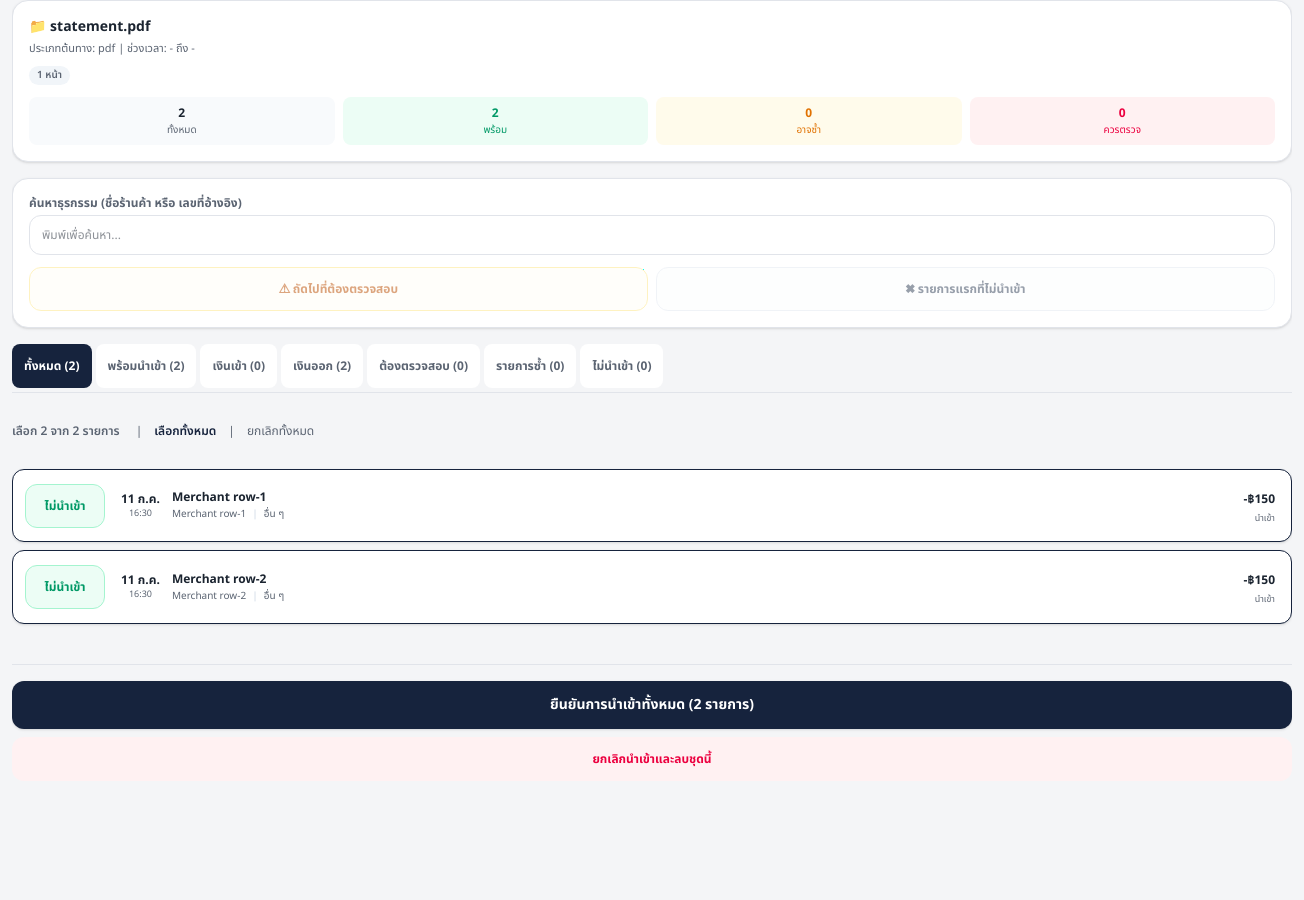
Scenario: History Import Review Selection Model › toggles row exclusion and updates summary count immediately
The image size is (1304, 900).
Expected: the text "เลือก 2 จาก 2 รายการ" is shown, x1=12 y1=423 x2=120 y2=439
Click the 1st button "ไม่นำเข้า" at (65, 506), box x1=25 y1=484 x2=105 y2=528
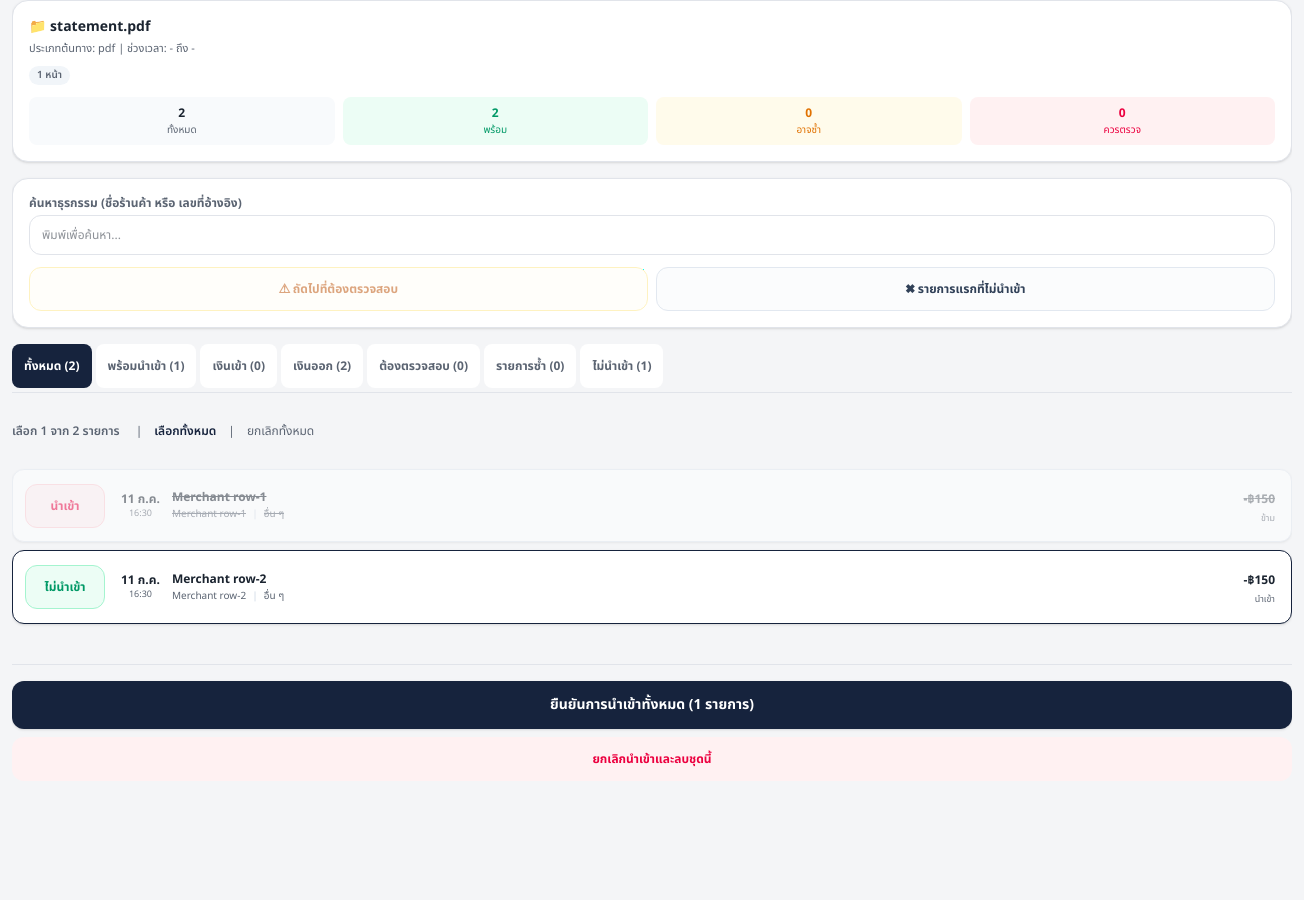
Result: the text "เลือก 1 จาก 2 รายการ" is shown at x1=12 y1=423 x2=120 y2=439
Result: the button "นำเข้า" is shown
Click the button "นำเข้า" at (65, 506), box x1=25 y1=484 x2=105 y2=528
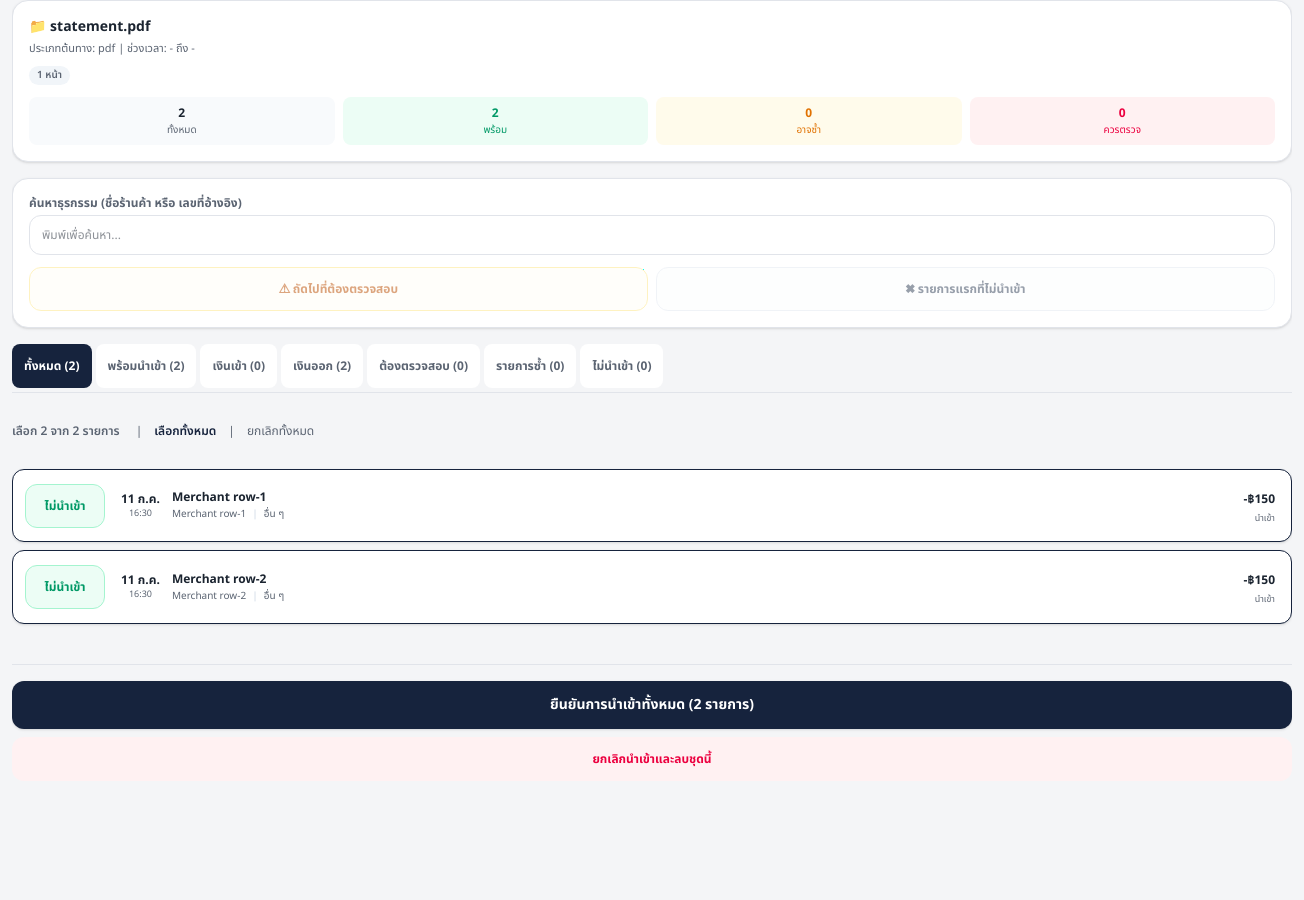
Result: the text "เลือก 2 จาก 2 รายการ" is shown at x1=12 y1=423 x2=120 y2=439
Result: the 1st button "ไม่นำเข้า" is shown at x1=25 y1=484 x2=105 y2=528
